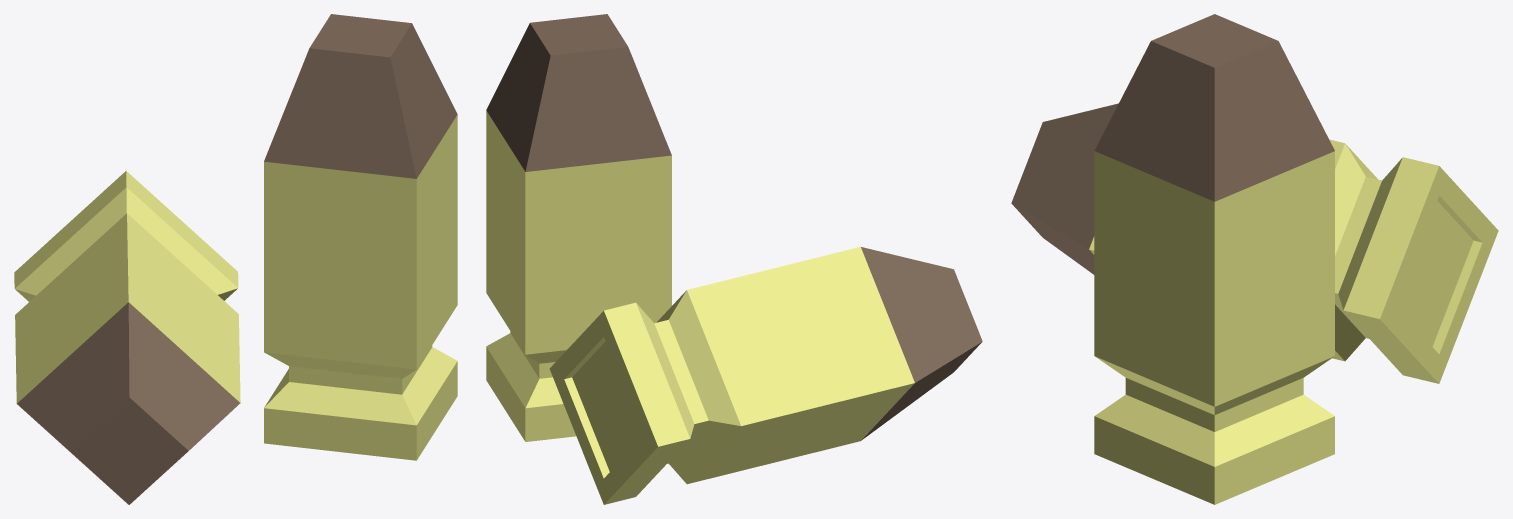
The model's file is Bullets.fbx.
3 renders of one model, left to right at view 1: azimuth 30°, elevation 25°; view 2: azimuth 150°, elevation 25°; view 3: azimuth 270°, elevation 25°, orthographic. The views are drawn at different scales.
Parts seen in each view (by area): view 1: Cube; view 2: Cube; view 3: Cube.
Boxes of the visible parts, <box> form: Cube: <box>14,14,457,504</box>; Cube: <box>486,14,982,504</box>; Cube: <box>1011,14,1498,504</box>.
Size of the model in its own units: 135 by 110 by 117.
